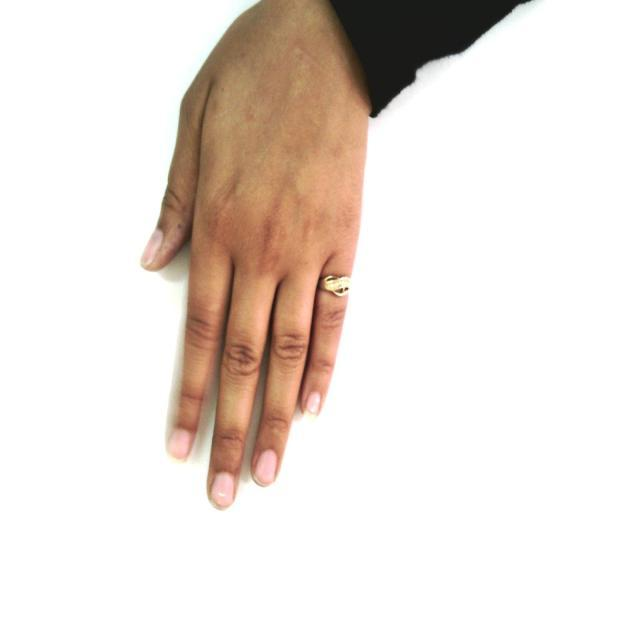Fingernail: (168, 429, 192, 460), (255, 450, 276, 484), (142, 230, 162, 264), (213, 473, 234, 504), (303, 392, 321, 421)
